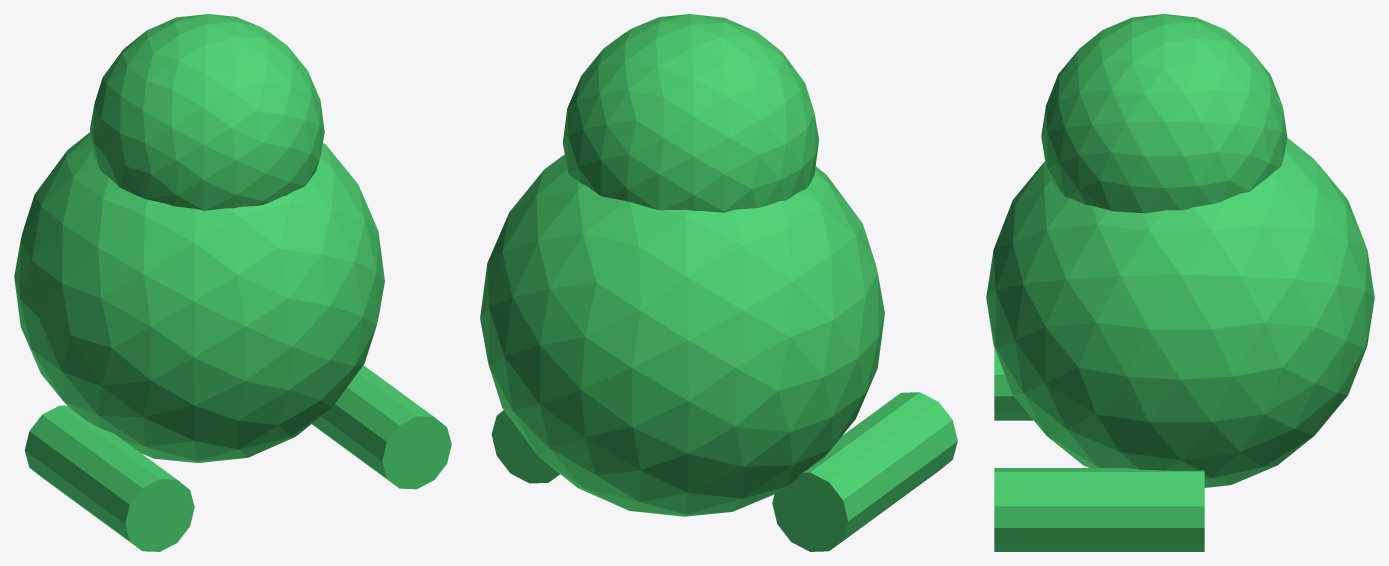
File: luxury_203.glb
The picture shows the model from 3 angles, left to right: view 1: azimuth 30°, elevation 25°; view 2: azimuth 150°, elevation 25°; view 3: azimuth 270°, elevation 25°; orthographic projection. The views are drawn at different scales.
Visible parts, largest first — view 1: world; view 2: world; view 3: world.
Boxes of the visible parts, x1,y1,x2,y2 form: world: (14,14,451,551); world: (480,14,957,551); world: (986,14,1374,551).
Size of the model in its own units: 1.22 by 1.56 by 1.2.
